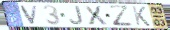3: (43, 3, 61, 27)
J: (68, 5, 84, 25)
K: (131, 6, 152, 27)
V: (19, 5, 40, 25)
X: (82, 5, 110, 26)
Z: (107, 5, 135, 27)
